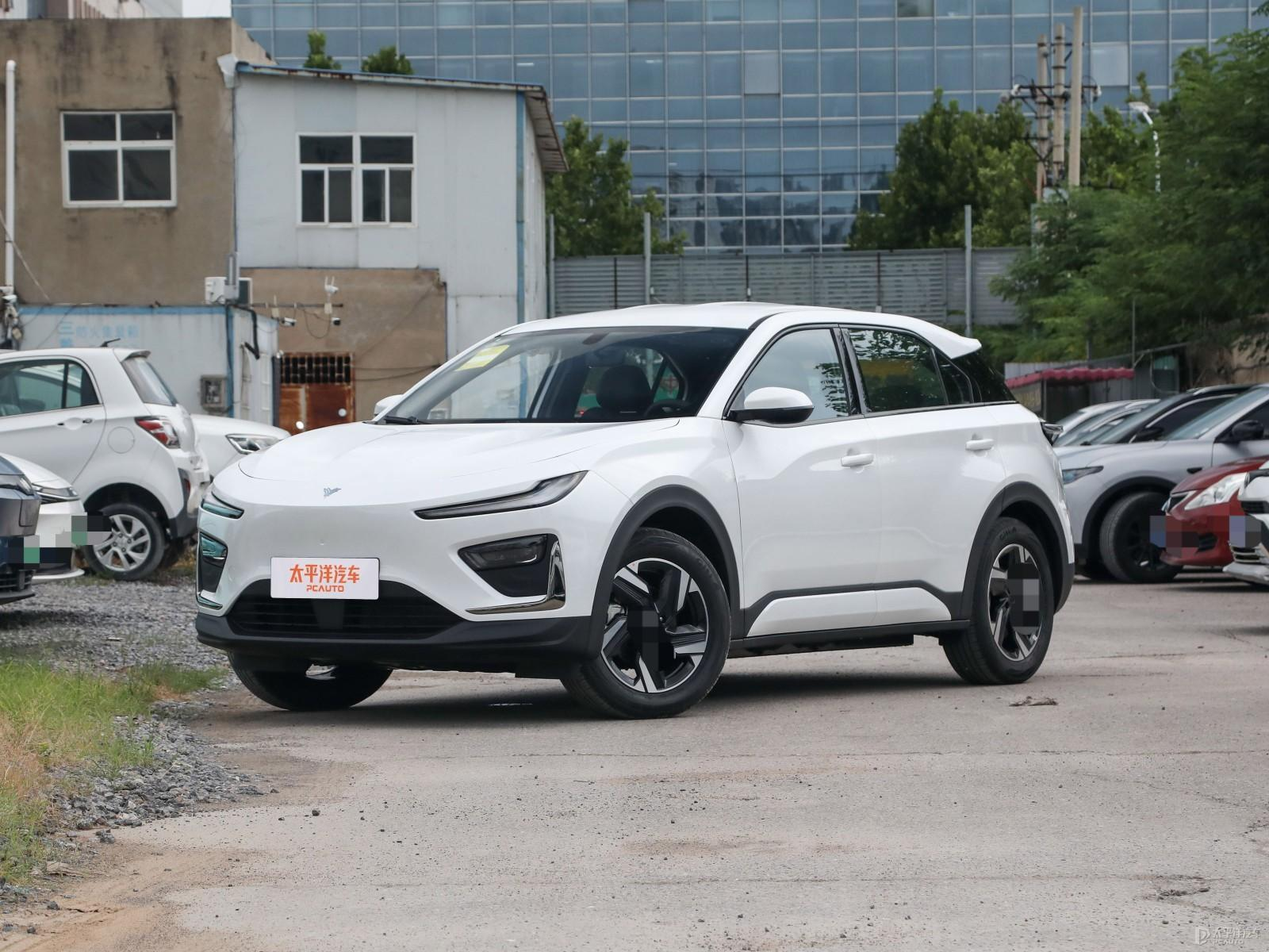NETA: (320, 486, 343, 498)
